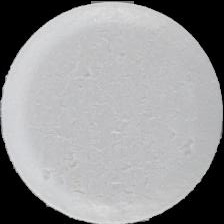76439-309: (0, 0, 224, 224)
